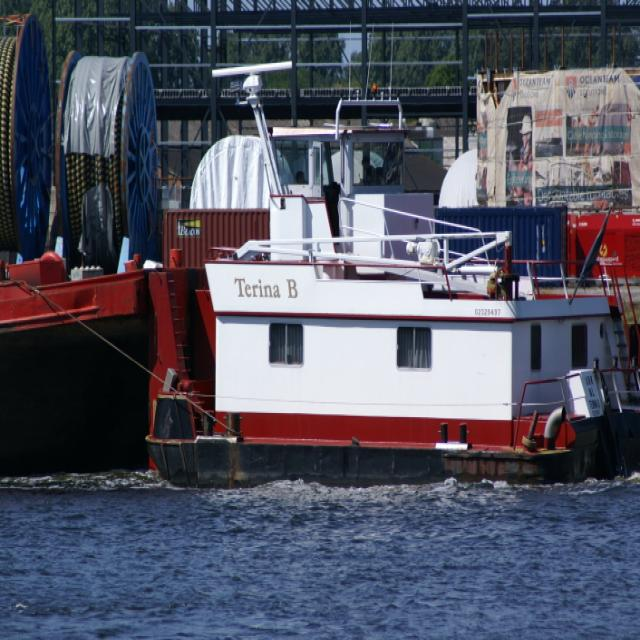tugboat: (140, 54, 640, 491)
